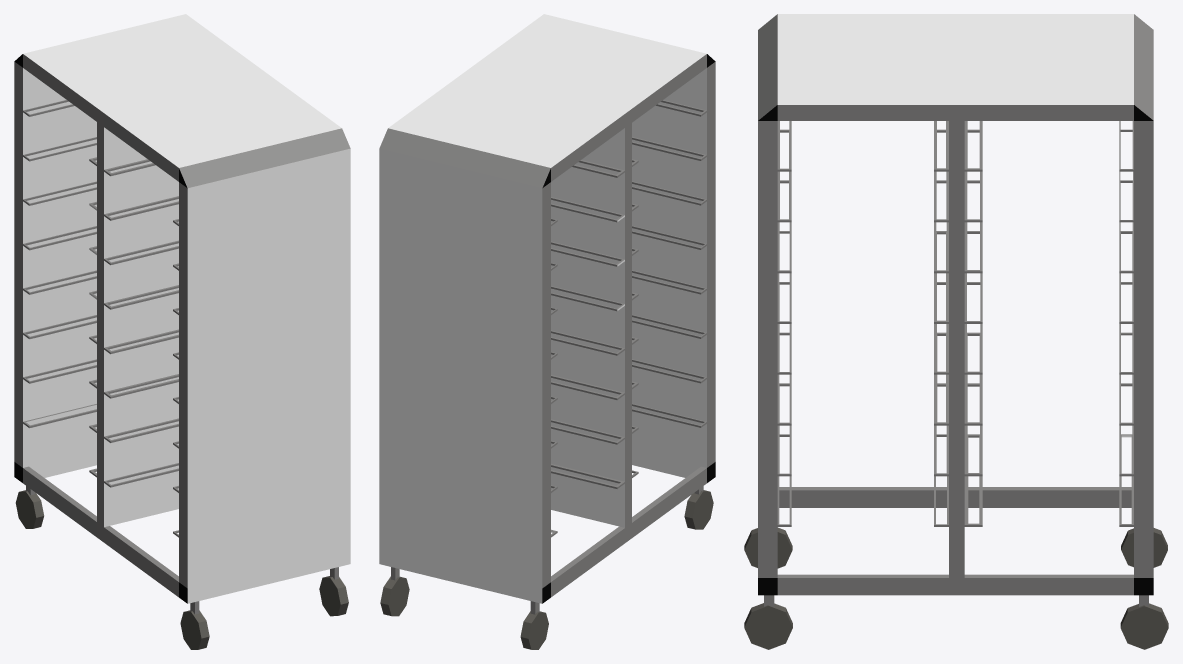
File: geschirrrueckgabe.fbx
3 views of the same model, side by side, from view 1: azimuth 30°, elevation 25°; view 2: azimuth 150°, elevation 25°; view 3: azimuth 270°, elevation 25° (orthographic). The views are drawn at different scales.
Parts seen in each view (by area): view 1: Geschirrrückgabe.001, Rad03, Rad01, Rad02; view 2: Geschirrrückgabe.001, Rad04, Rad01, Rad02; view 3: Geschirrrückgabe.001, Rad03, Rad04, Rad01, Rad02.
Part boxes in pixels (x1,y1,x2,y2): Geschirrrückgabe.001: [14, 14, 350, 603]; Rad03: [319, 576, 348, 616]; Rad01: [180, 610, 209, 649]; Rad02: [15, 490, 44, 528]; Geschirrrückgabe.001: [379, 14, 715, 603]; Rad04: [380, 576, 409, 616]; Rad01: [684, 490, 713, 529]; Rad02: [520, 611, 548, 649]; Geschirrrückgabe.001: [758, 14, 1153, 595]; Rad03: [744, 603, 792, 649]; Rad04: [1120, 603, 1168, 649]; Rad01: [744, 527, 792, 568]; Rad02: [1121, 528, 1167, 567].
Size of the model in its own units: 64.57 by 182 by 127.
Materials: 9 (9 with a texture image).
